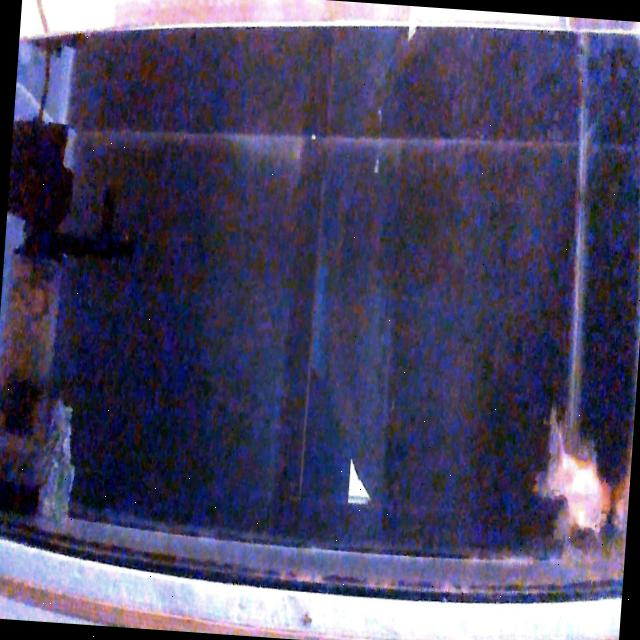fish: (543, 420, 609, 538)
